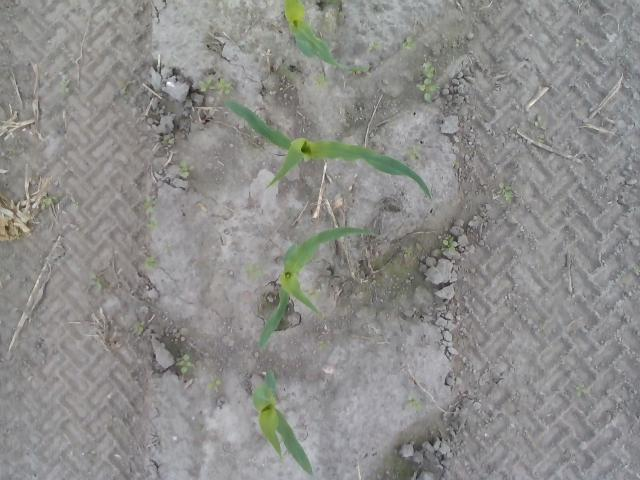Maize: (224, 98, 432, 202), (258, 228, 370, 348), (251, 367, 313, 480), (283, 0, 368, 73)
Weeds: (414, 62, 440, 102), (199, 76, 234, 96), (144, 194, 160, 230), (312, 72, 333, 91), (174, 353, 193, 374), (177, 158, 196, 177), (88, 271, 104, 290), (442, 234, 458, 250), (402, 33, 416, 50), (206, 376, 222, 390), (248, 265, 264, 278), (406, 148, 422, 161), (408, 398, 422, 412), (58, 80, 72, 93), (574, 382, 586, 396), (146, 258, 158, 270), (42, 198, 54, 208), (504, 190, 514, 202), (316, 340, 329, 349)
